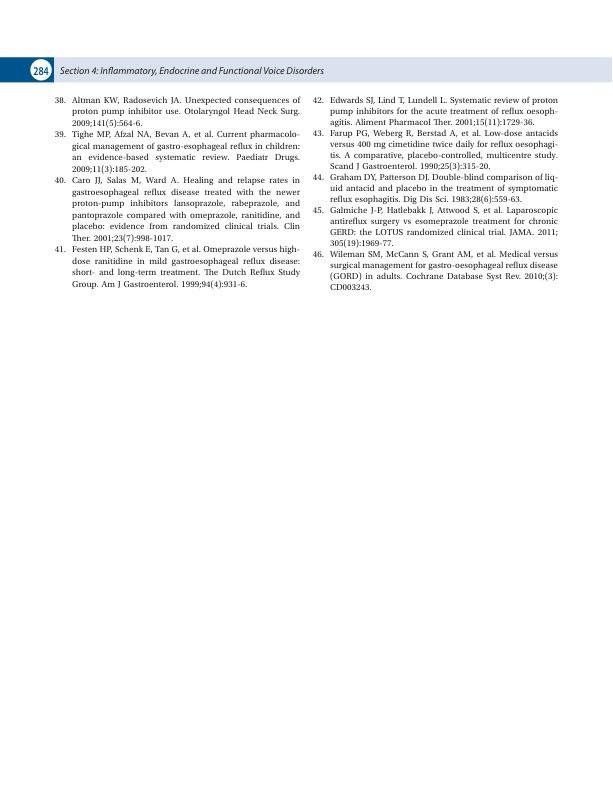header: (58, 65, 325, 77)
list: (311, 95, 559, 292), (53, 95, 302, 291)
